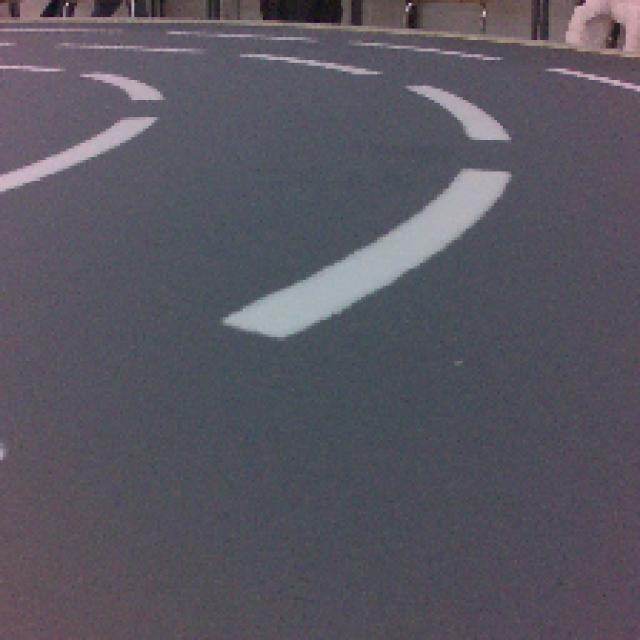Road: (0, 439, 640, 640)
